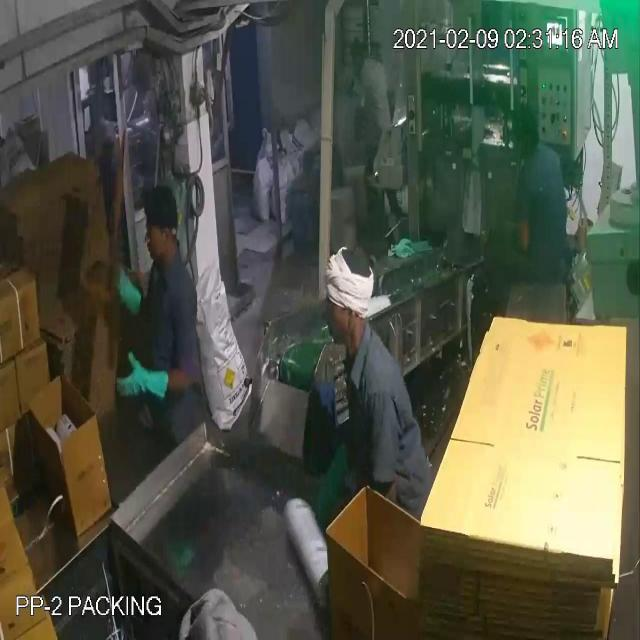Gloves: (40, 65, 331, 476)
